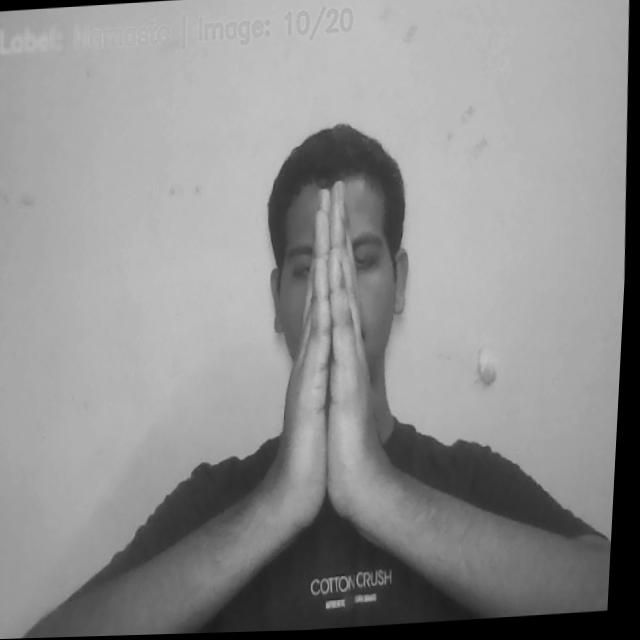Namaste: (273, 183, 394, 548)
